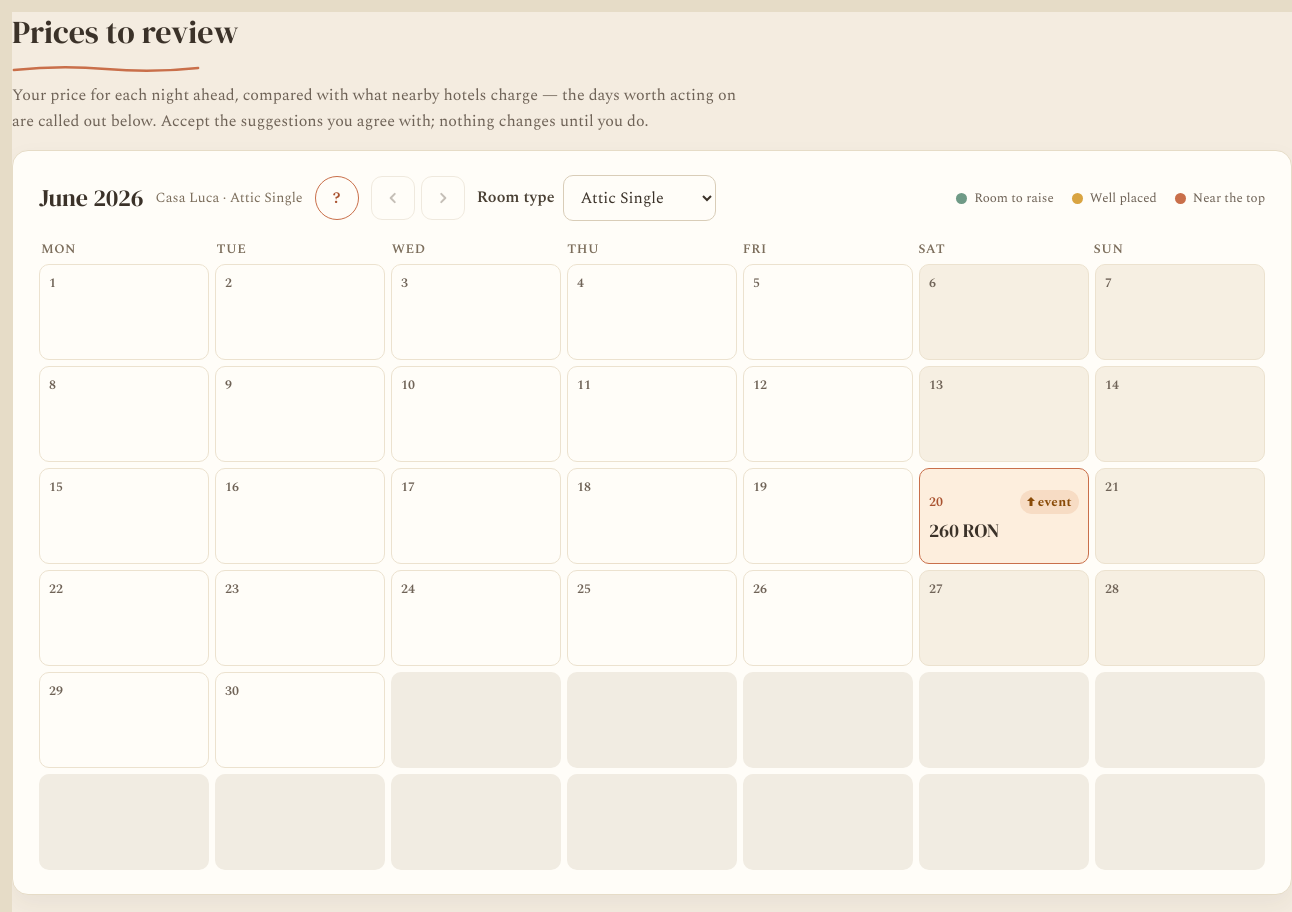
RecommendationsPage — price calendar › offers an inline explainer for the nearby-hotel price range shown under each night
Expected: the dropdown labelled "Room type" is shown, x1=562 y1=175 x2=716 y2=221
Click the button named "what does \"the price range\" mean?".
click(337, 198)  # box x1=315 y1=176 x2=359 y2=220
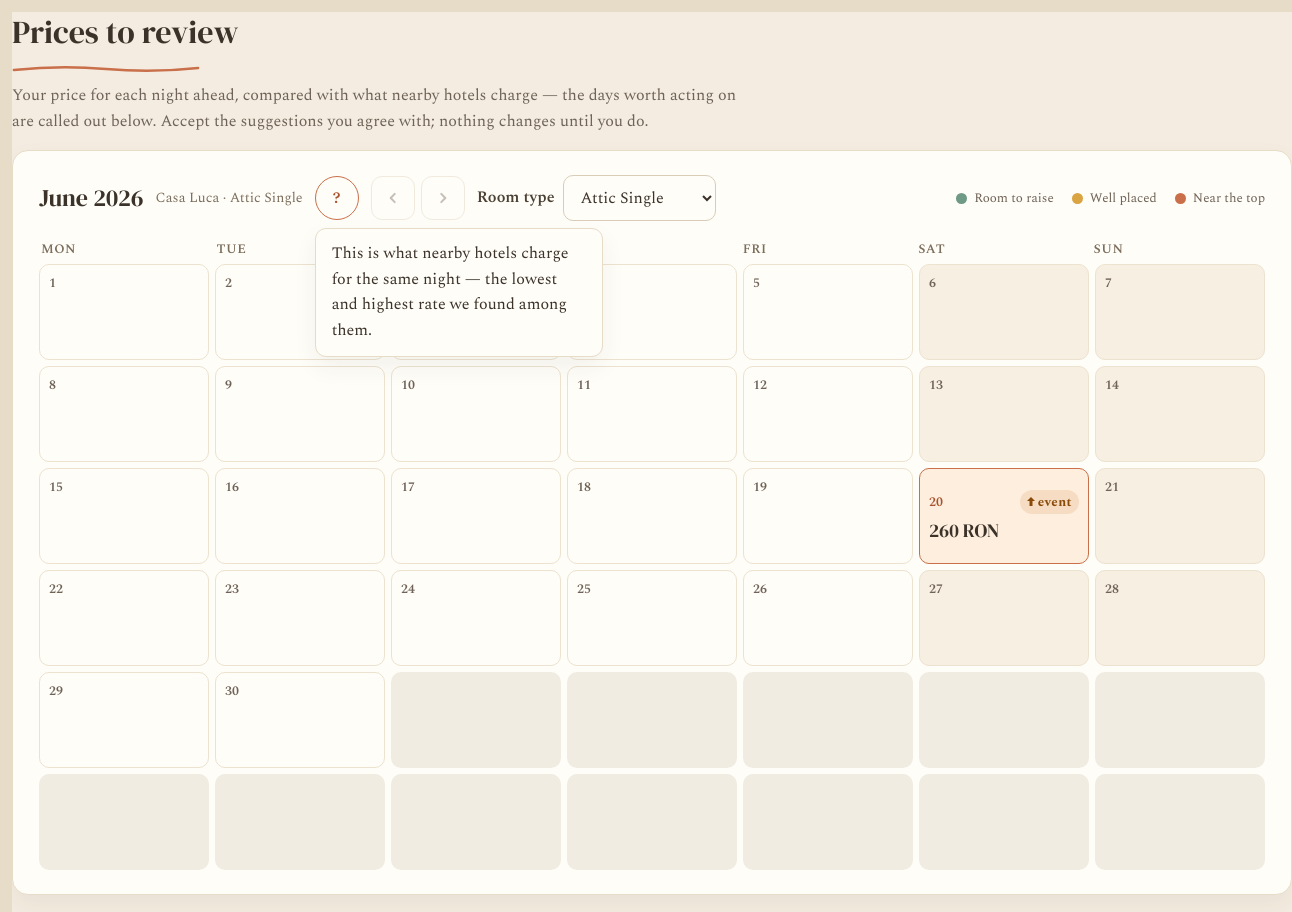
Result: the tooltip shows "nearby hotels charge" at x1=332 y1=241 x2=569 y2=342
